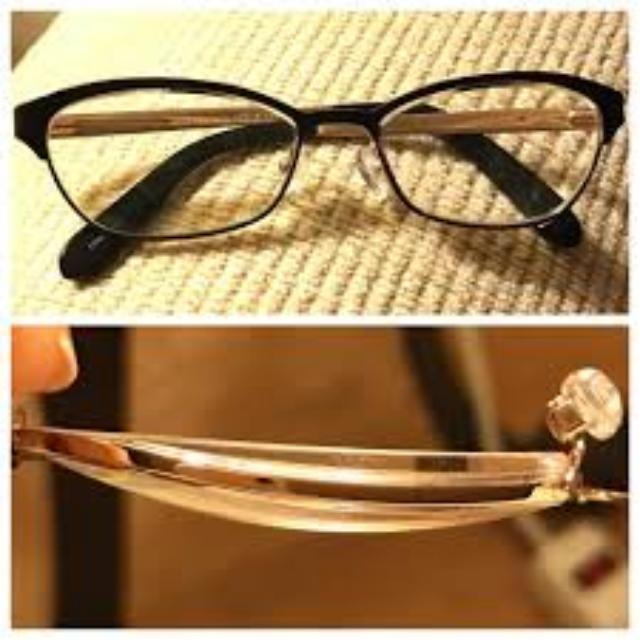glasses: (9, 68, 625, 282)
